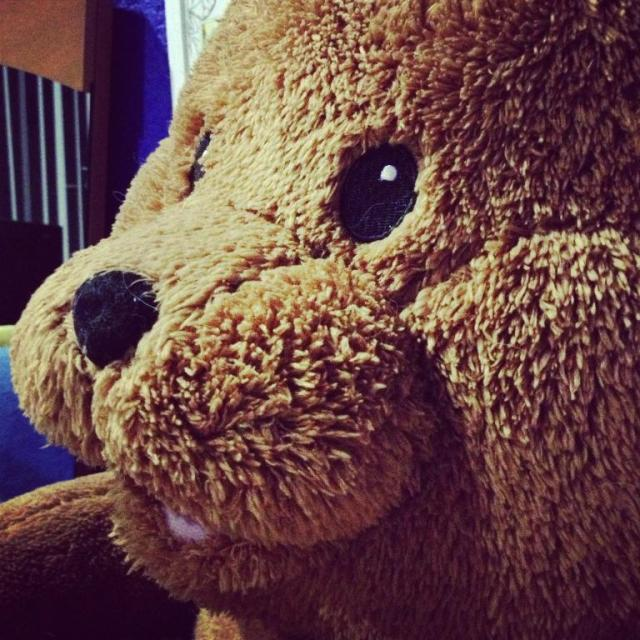Cheetahs: (0, 1, 640, 640)
